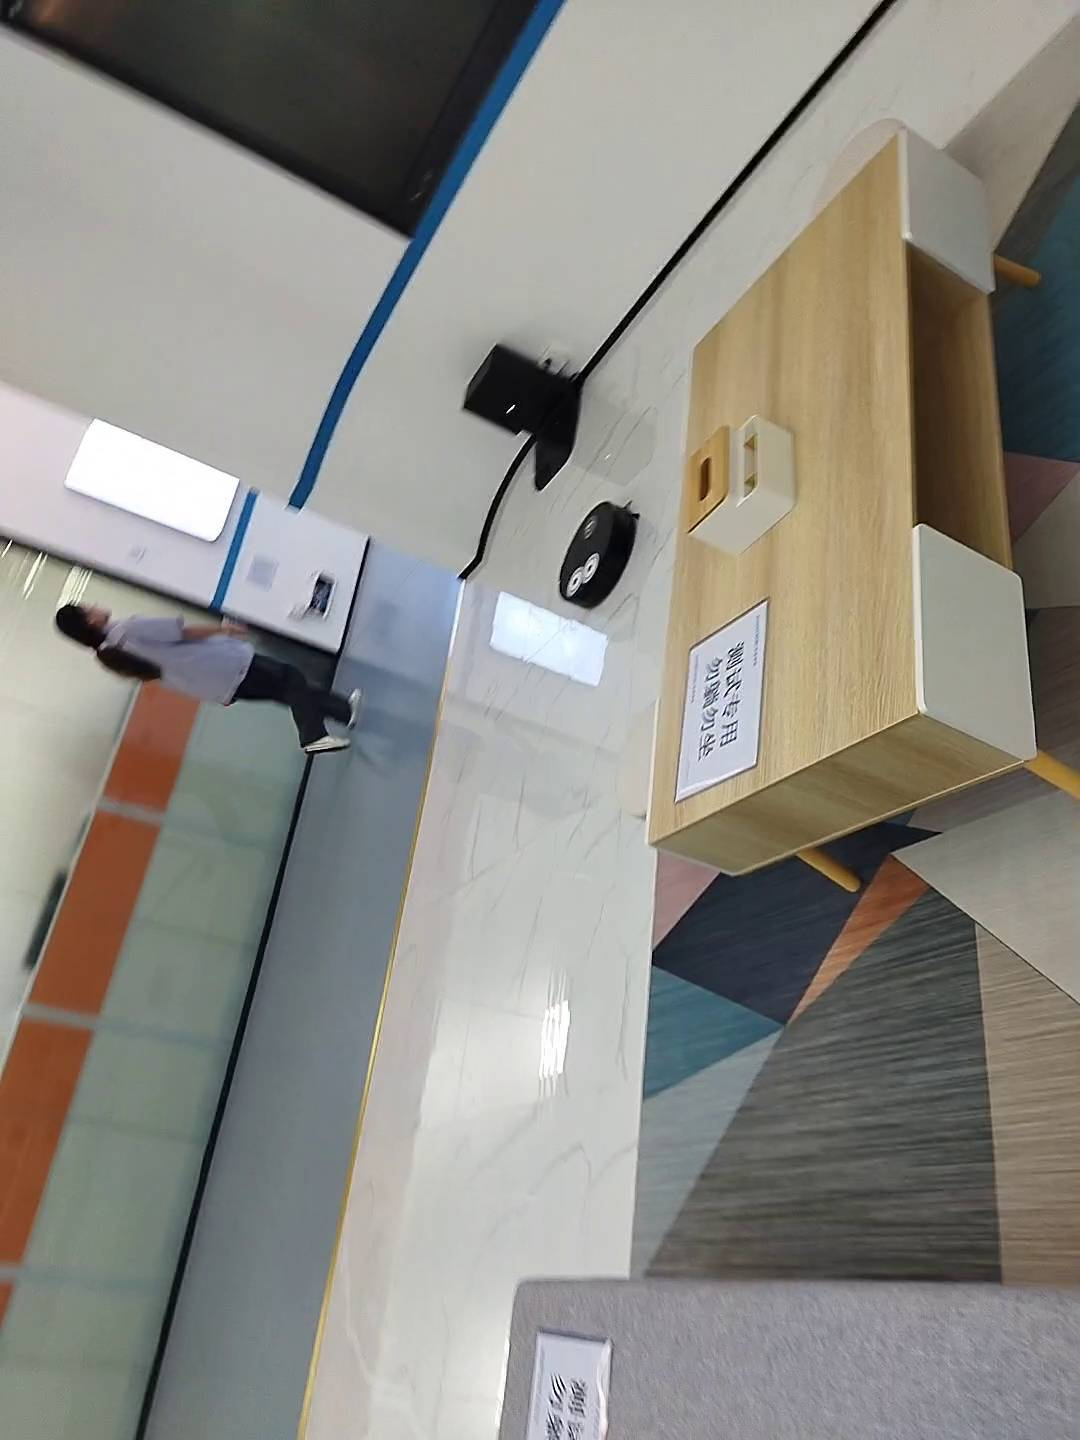dust collecting barrel: (462, 344, 582, 491)
